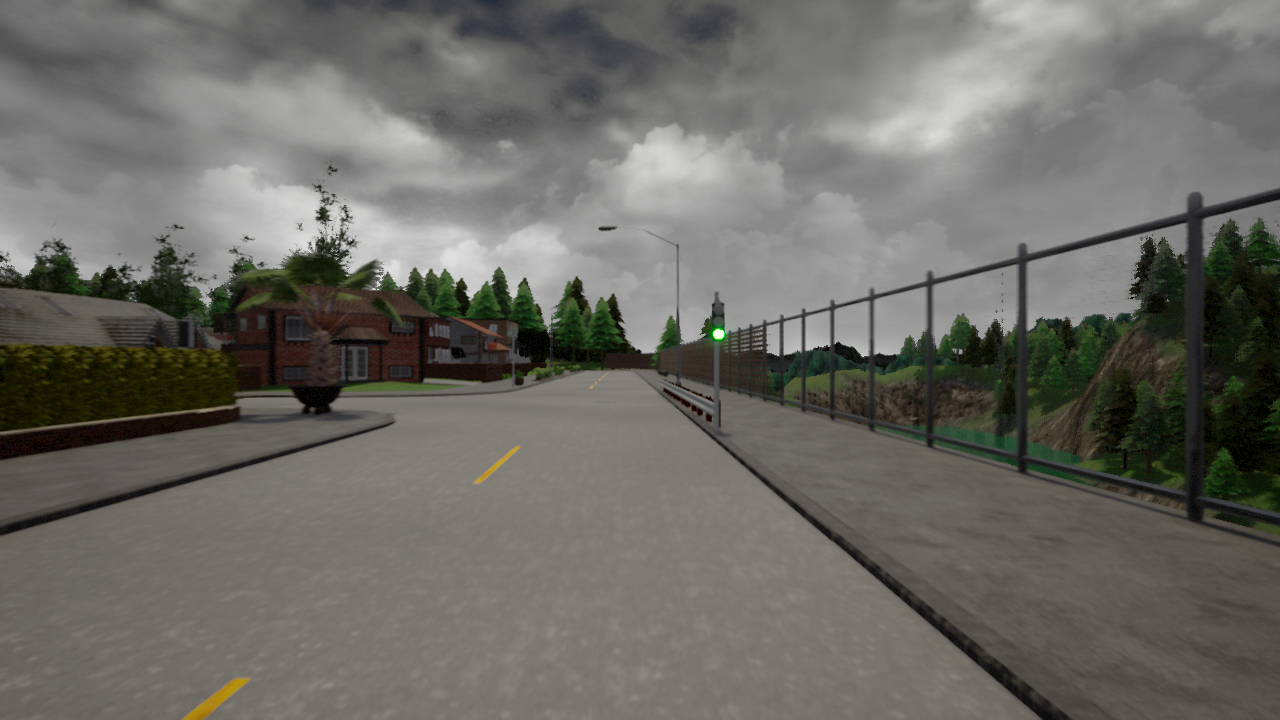green: (710, 302, 727, 340)
